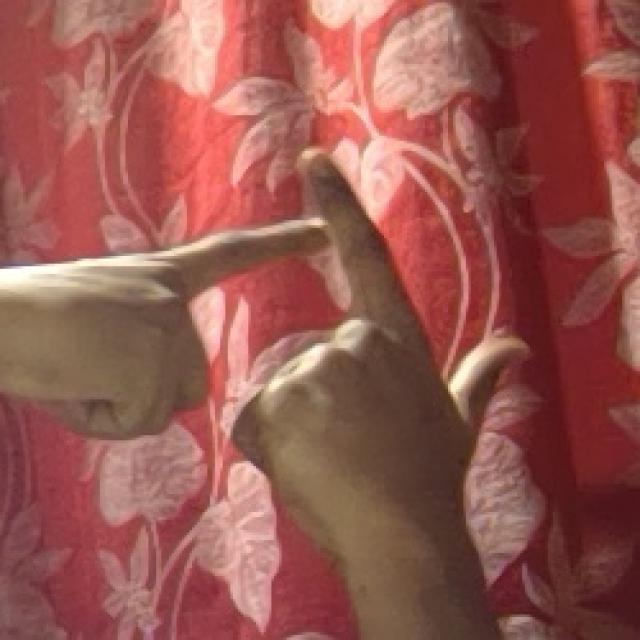Alphabet-J: (52, 133, 538, 591)
